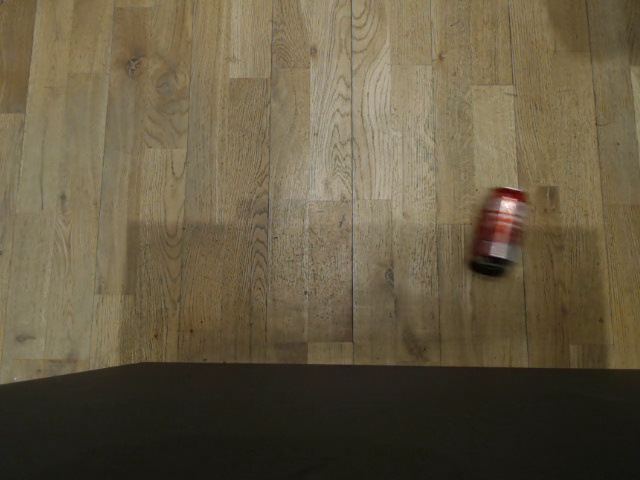coke: (466, 185, 531, 272)
